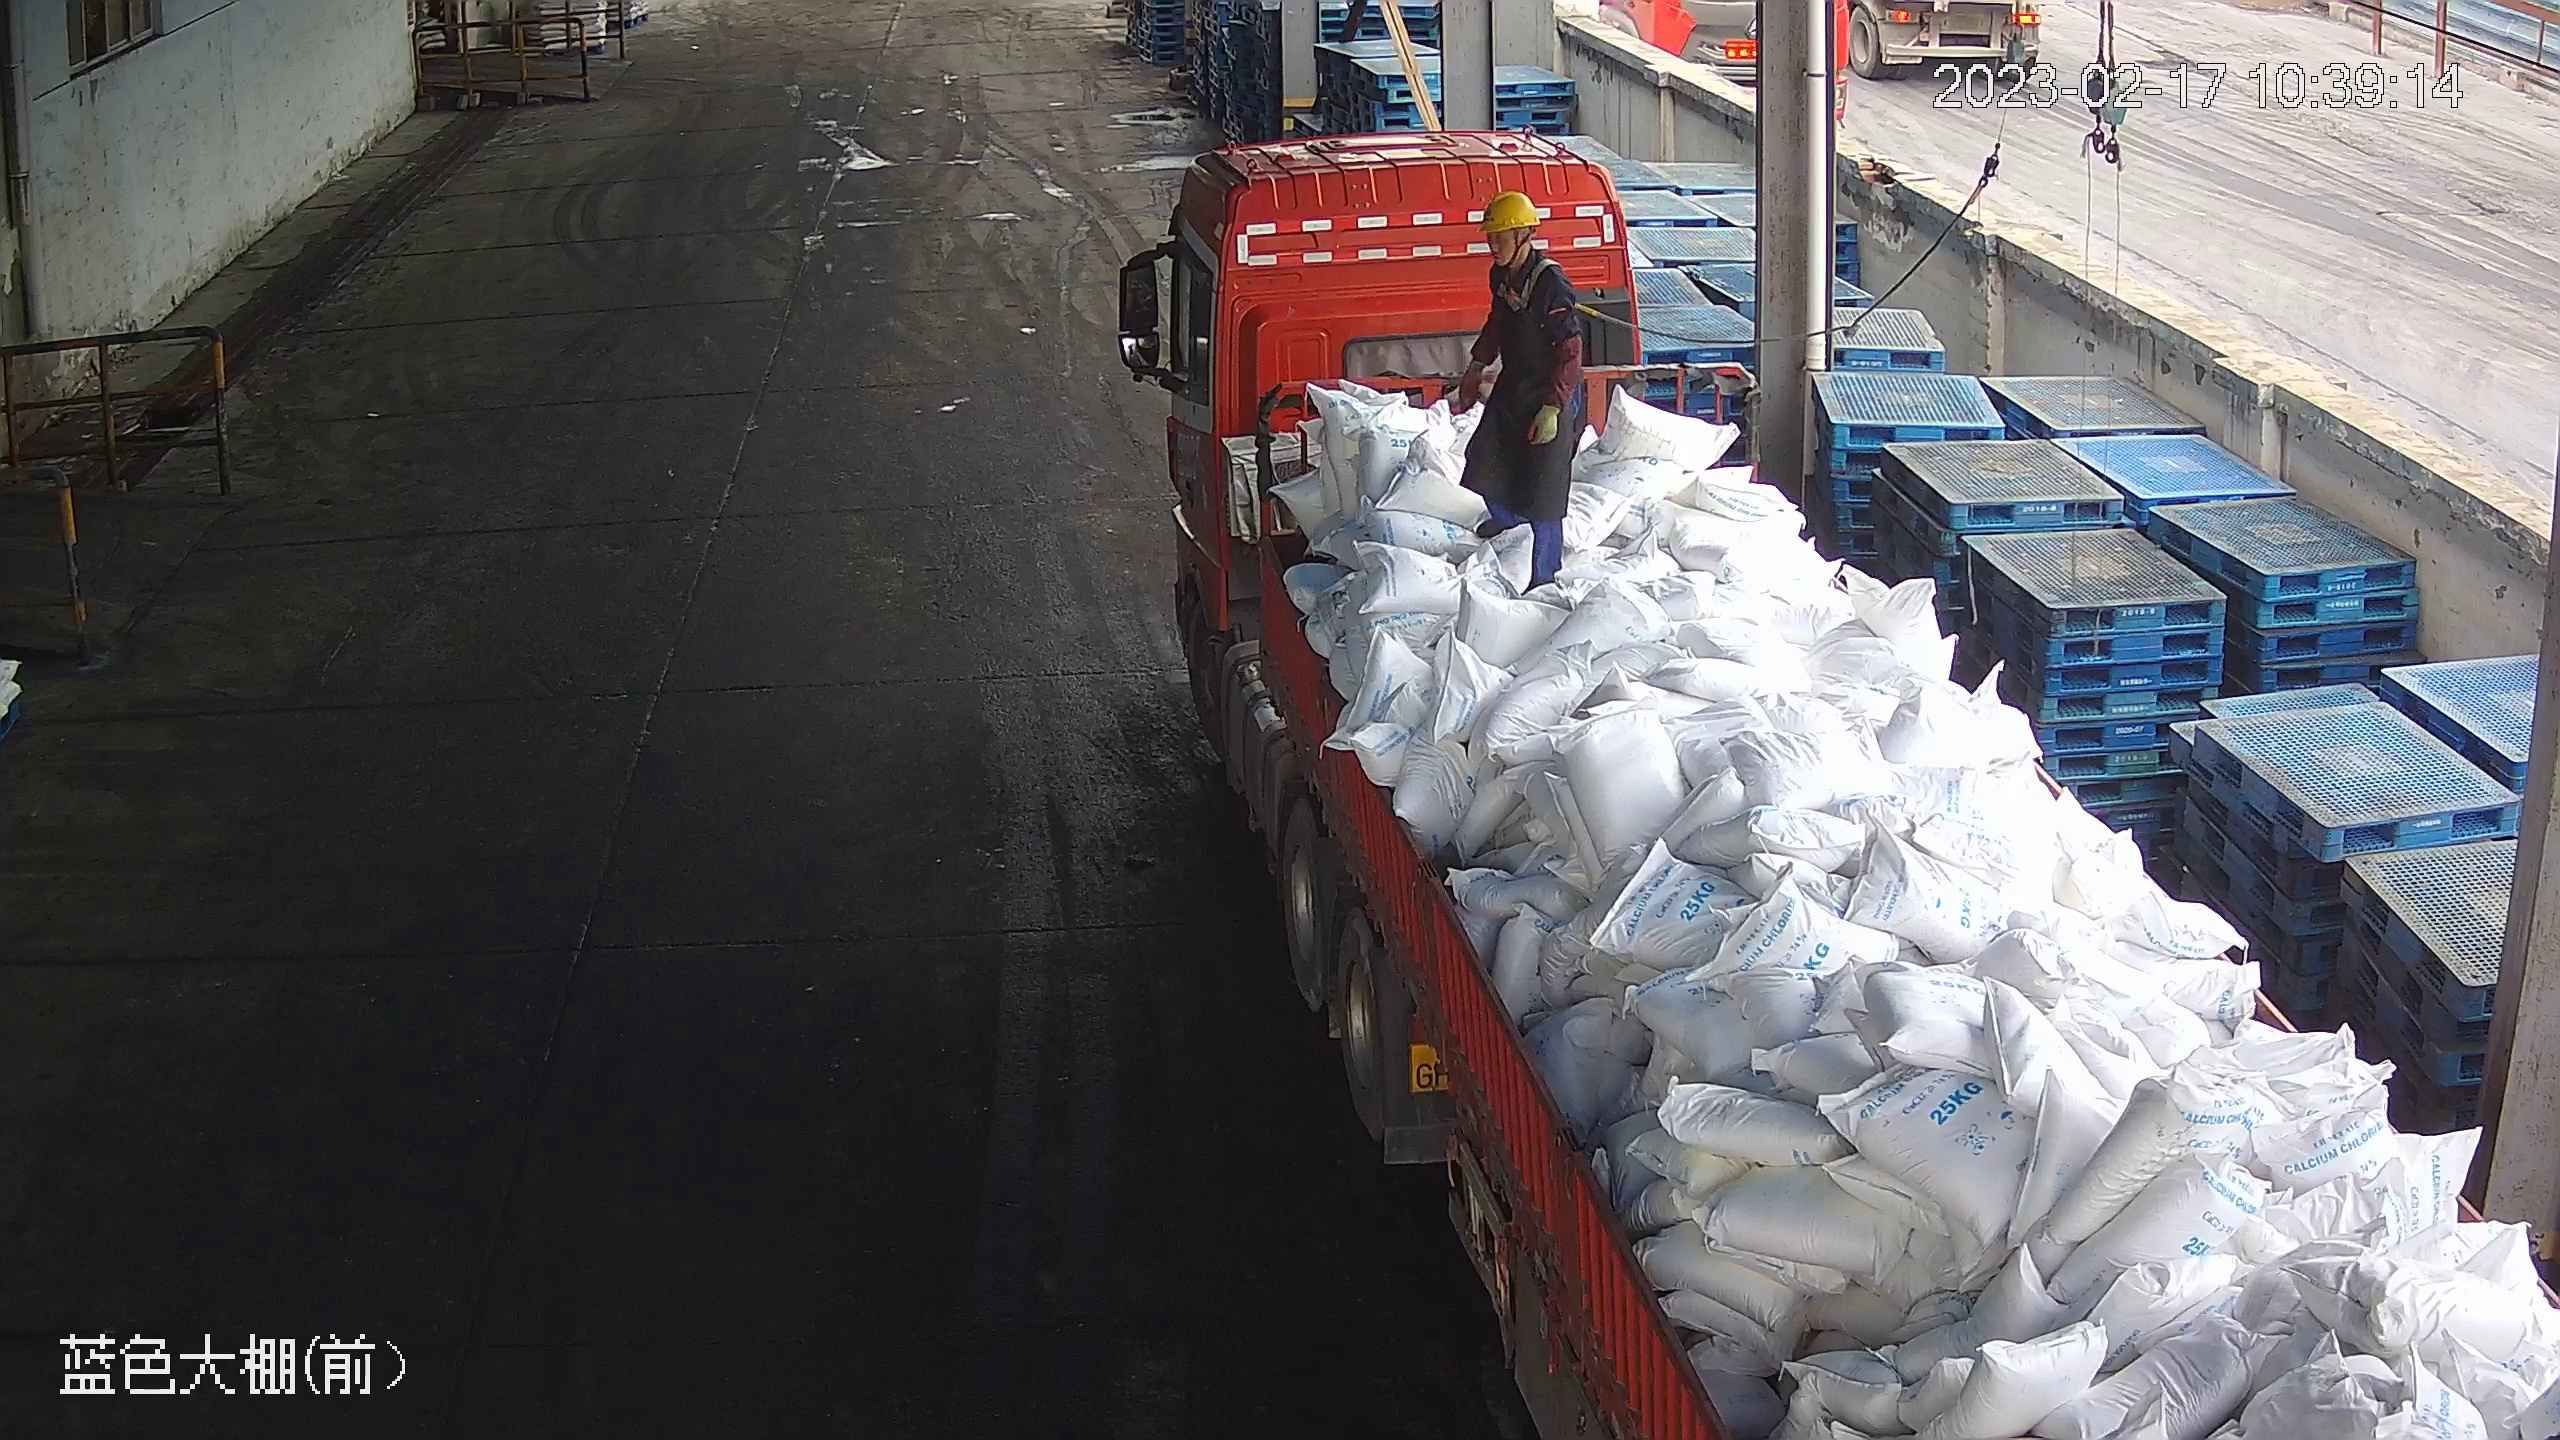belt: (1483, 249, 1574, 309)
head: (1471, 186, 1577, 316)
helmet: (1479, 186, 1546, 237)
people: (1458, 188, 1584, 597)
truck: (1111, 127, 2558, 1437)
